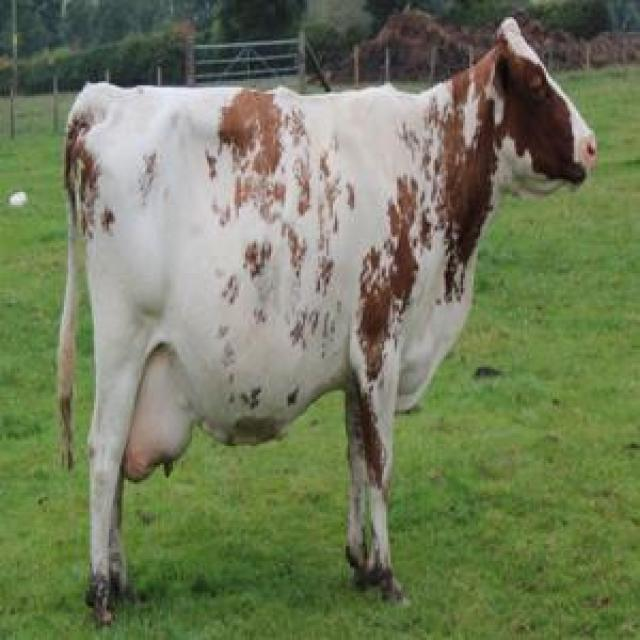not_pig: (53, 13, 598, 627)
